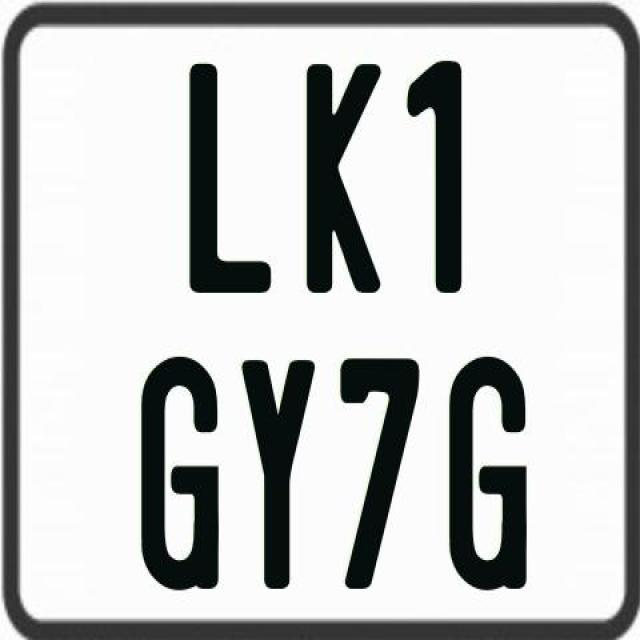1: (405, 59, 467, 291)
7: (340, 356, 427, 590)
G: (448, 352, 534, 592), (138, 352, 222, 595)
K: (302, 64, 386, 293)
L: (187, 62, 270, 293)
Y: (240, 356, 315, 588)
